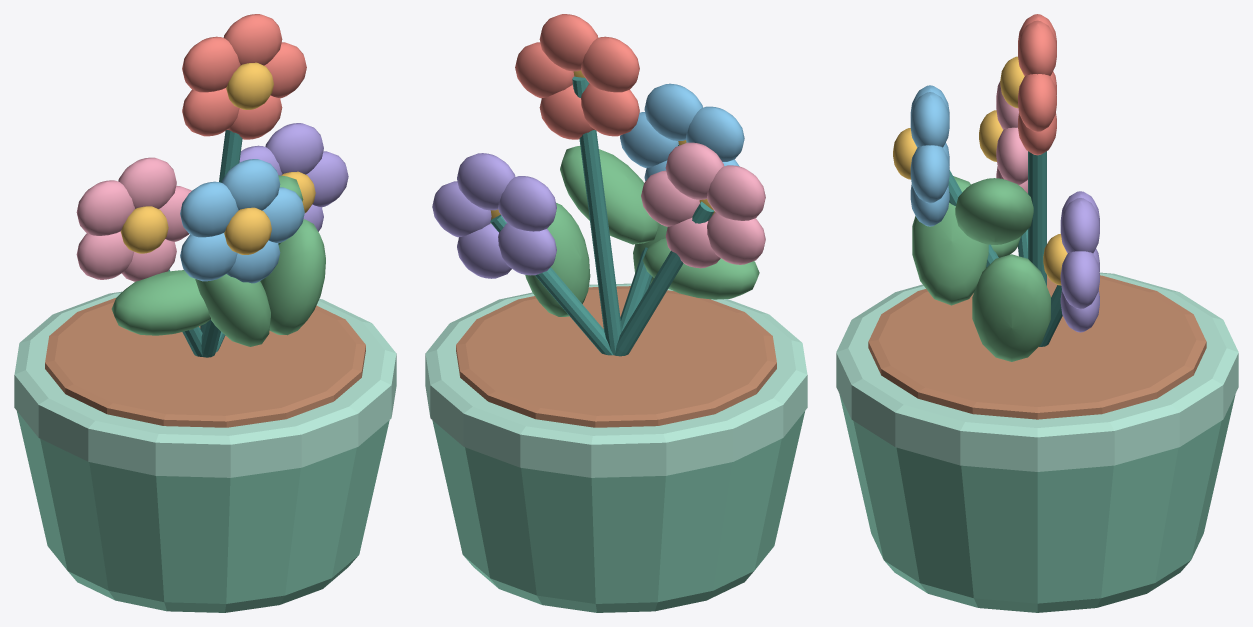
The model's file is flower_pot.glb.
The picture shows the model from 3 angles, left to right: view 1: azimuth 30°, elevation 25°; view 2: azimuth 150°, elevation 25°; view 3: azimuth 270°, elevation 25°; orthographic projection. The views are drawn at different scales.
Visible parts, largest first — view 1: model, pot, soil, rim; view 2: model, pot, soil, rim; view 3: pot, model, soil, rim.
Part boxes in pixels (left/top/right/bottom): model: left=76, top=14, right=348, bottom=357; pot: left=17, top=411, right=389, bottom=612; soil: left=45, top=298, right=365, bottom=427; rim: left=14, top=291, right=396, bottom=477; model: left=432, top=14, right=765, bottom=356; pot: left=432, top=411, right=804, bottom=612; soil: left=456, top=286, right=776, bottom=427; rim: left=425, top=283, right=807, bottom=477; pot: left=839, top=394, right=1235, bottom=612; model: left=893, top=14, right=1099, bottom=361; soil: left=868, top=275, right=1206, bottom=419; rim: left=836, top=272, right=1238, bottom=471.
Bounding box in the file's own units: 0.3 × 0.45 × 0.3.
